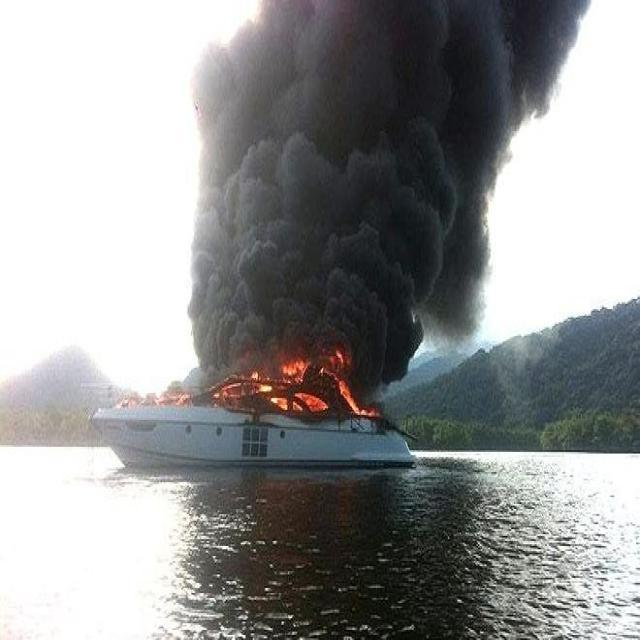Fire: (224, 358, 319, 418)
Smoke: (182, 0, 552, 369)
